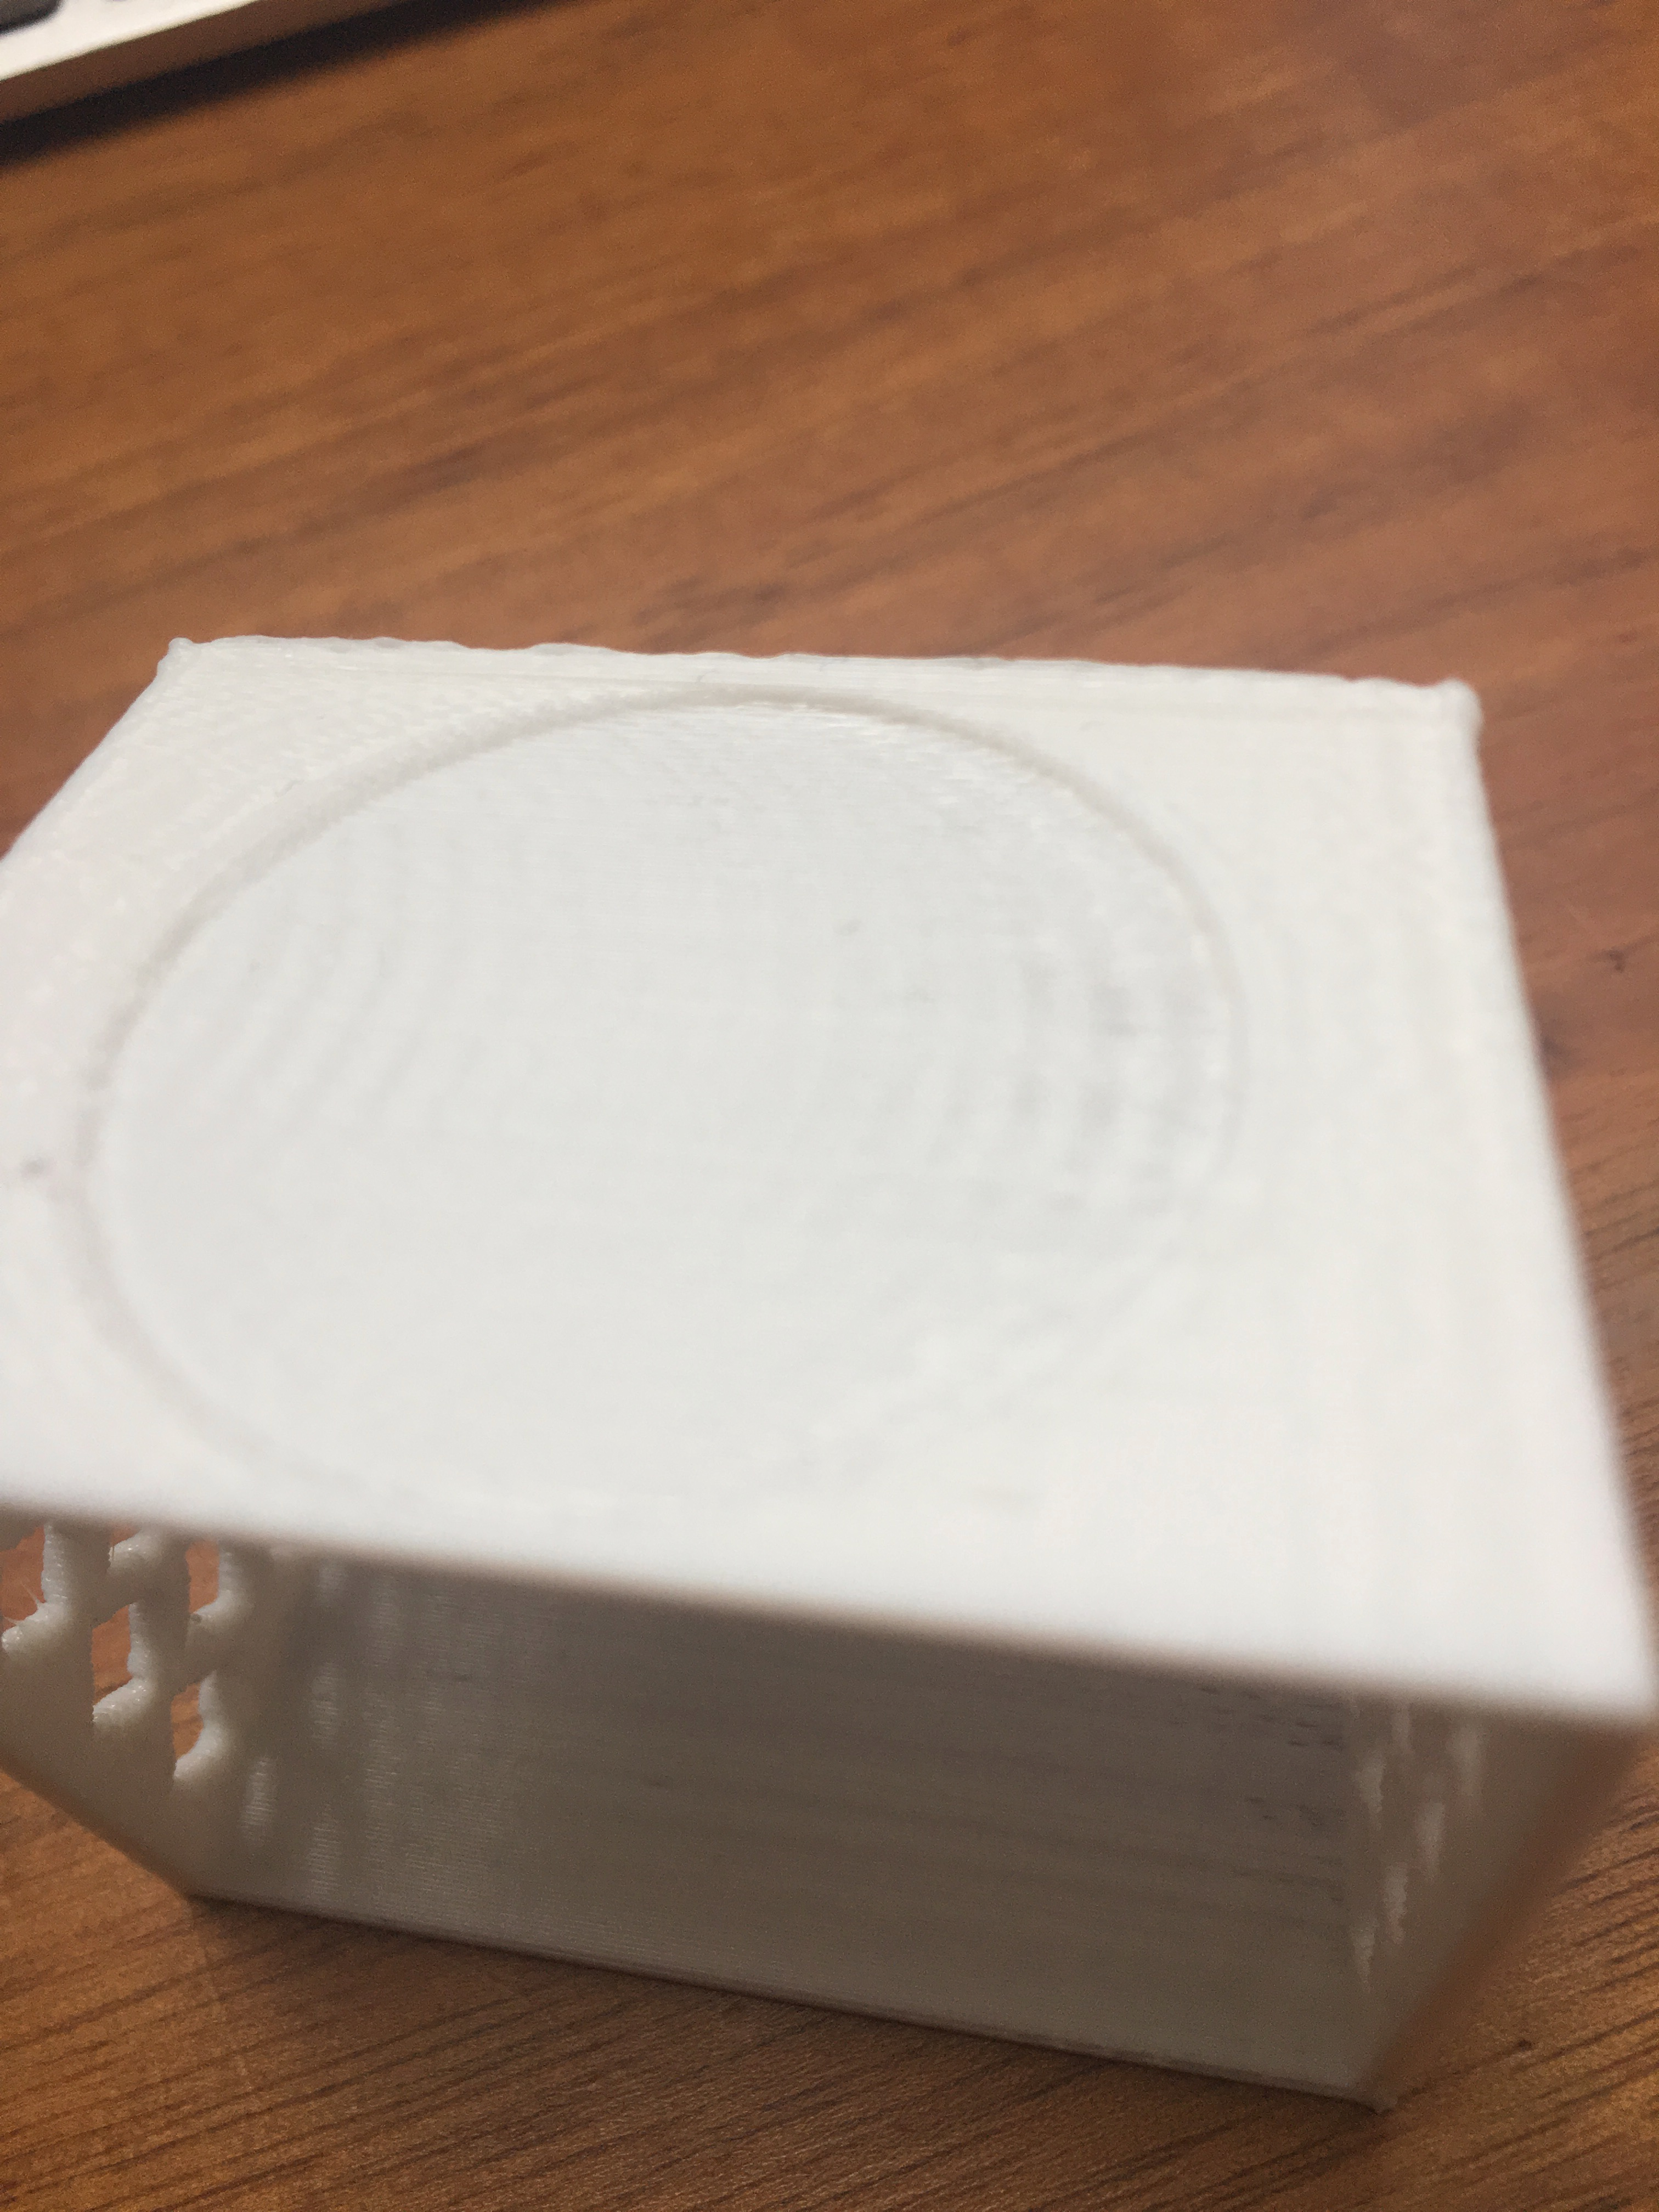3dpripples: (176, 852, 631, 1230), (913, 852, 1169, 1270)
